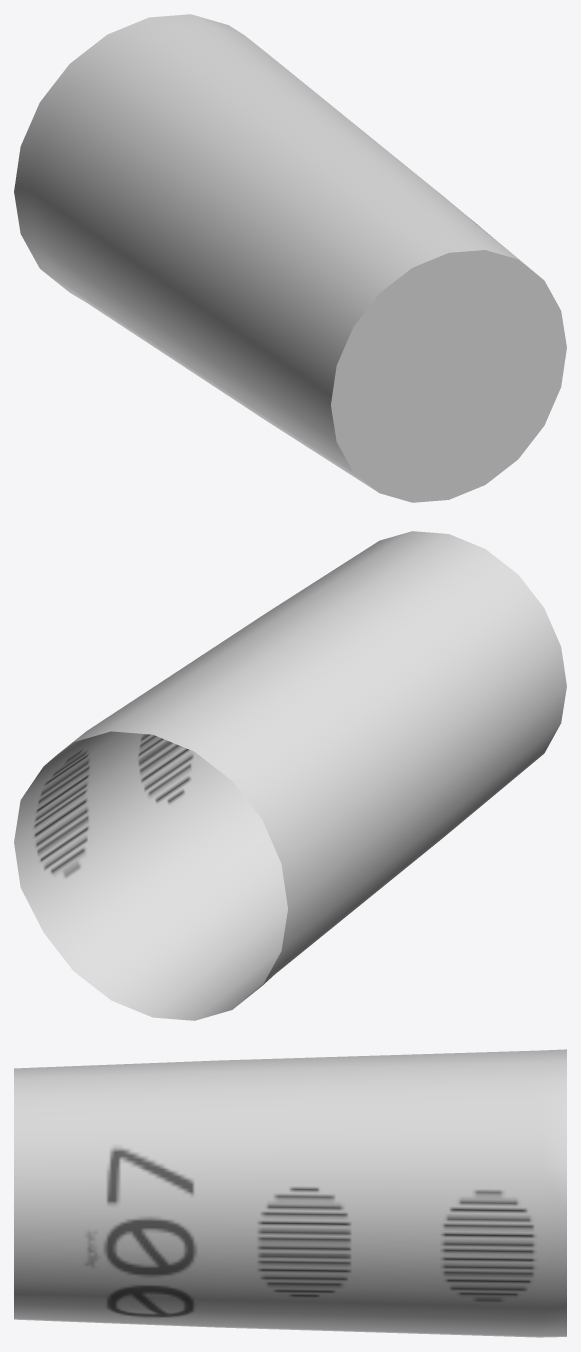
3 views of the same model, one above another, from view 1: azimuth 30°, elevation 25°; view 2: azimuth 150°, elevation 25°; view 3: azimuth 270°, elevation 25° (orthographic). The views are drawn at different scales.
Parts seen in each view (by area): view 1: link_base.3obj.006; view 2: link_base.3obj.006; view 3: link_base.3obj.006.
Boxes of the visible parts, x1,y1,x2,y2 form: link_base.3obj.006: [14, 14, 566, 502]; link_base.3obj.006: [14, 531, 566, 1020]; link_base.3obj.006: [14, 1049, 566, 1337].
Bounding box in the file's own units: 0.1805 × 0.178 × 0.3398.
Materials: 1 (1 with a texture image).
